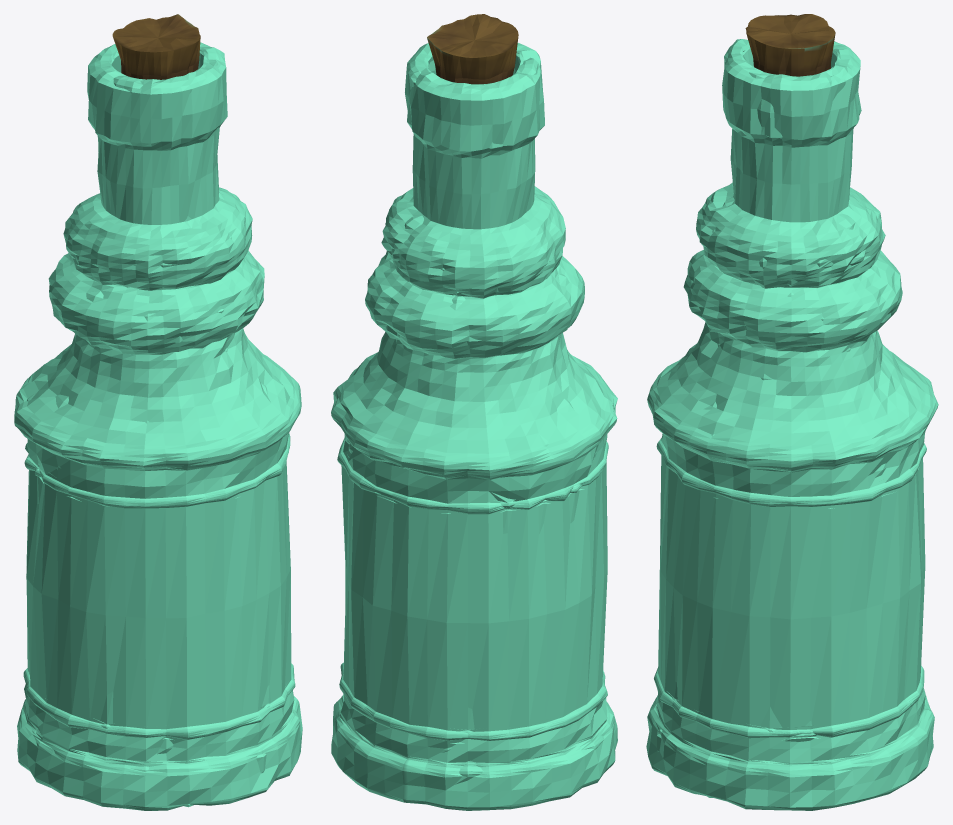
The model's file is crush_low_1.obj.
3 renders of one model, left to right at view 1: azimuth 30°, elevation 25°; view 2: azimuth 150°, elevation 25°; view 3: azimuth 270°, elevation 25°, orthographic.
Visible parts, largest first — view 1: model; view 2: model; view 3: model.
Boxes of the visible parts, x1,y1,x2,y2 form: model: [14, 14, 302, 810]; model: [331, 14, 617, 810]; model: [646, 14, 938, 810].
Bounding box in the file's own units: 0.0735 × 0.2013 × 0.0733.
1 material, 1 textured.
